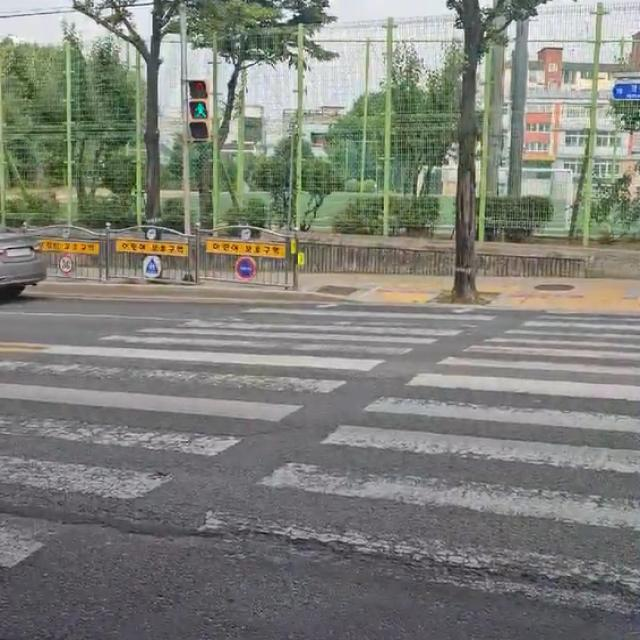crosswalk: (3, 294, 640, 625)
greenlight: (186, 77, 213, 122)
